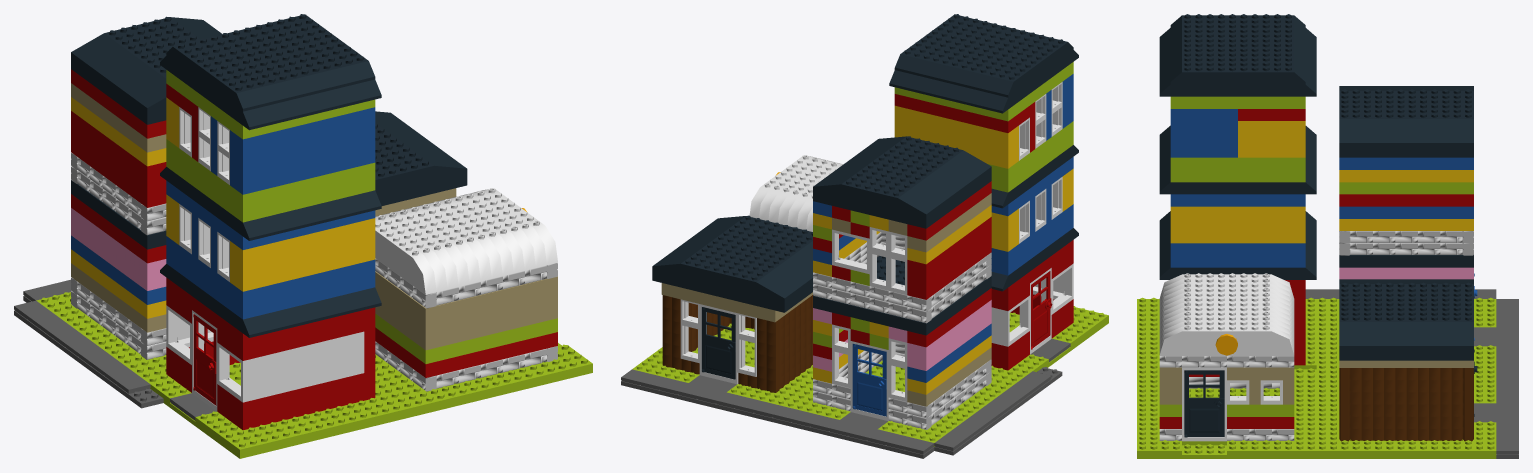
The model's file is Block3-lod2.fbx.
3 renders of one model, left to right at view 1: azimuth 30°, elevation 25°; view 2: azimuth 150°, elevation 25°; view 3: azimuth 270°, elevation 25°, orthographic. The views are drawn at different scales.
Parts seen in each view (by area): view 1: Material_26, Material_119, Material_1, Material_21, Material_23, Material_5, Material_208, Material_24, Material_199, Material_222; view 2: Material_26, Material_1, Material_21, Material_119, Material_199, Material_24, Material_208, Material_23, Material_192, Material_5, Material_222; view 3: Material_26, Material_119, Material_23, Material_1, Material_24, Material_192, Material_208, Material_199, Material_21, Material_5, Material_222, Material_191.
Part boxes in pixels (left/top/right/bottom): Material_26: left=71, top=14, right=467, bottom=337; Material_119: left=36, top=70, right=592, bottom=458; Material_1: left=166, top=107, right=557, bottom=411; Material_21: left=71, top=69, right=557, bottom=430; Material_23: left=71, top=107, right=375, bottom=319; Material_5: left=71, top=83, right=557, bottom=350; Material_208: left=71, top=152, right=557, bottom=391; Material_24: left=71, top=97, right=375, bottom=318; Material_199: left=14, top=279, right=216, bottom=420; Material_222: left=71, top=208, right=166, bottom=290; Material_26: left=652, top=14, right=1078, bottom=379; Material_1: left=680, top=82, right=1073, bottom=421; Material_21: left=813, top=94, right=1073, bottom=370; Material_119: left=632, top=62, right=1108, bottom=446; Material_199: left=621, top=339, right=1070, bottom=458; Material_24: left=813, top=105, right=1073, bottom=394; Material_208: left=813, top=232, right=991, bottom=429; Material_23: left=813, top=74, right=1073, bottom=416; Material_192: left=662, top=295, right=813, bottom=392; Material_5: left=661, top=193, right=991, bottom=406; Material_222: left=813, top=300, right=991, bottom=371; Material_26: left=1159, top=14, right=1477, bottom=437; Material_119: left=1137, top=96, right=1496, bottom=458; Material_23: left=1170, top=109, right=1477, bottom=340; Material_1: left=1159, top=273, right=1294, bottom=441; Material_24: left=1170, top=121, right=1473, bottom=243; Material_192: left=1339, top=368, right=1473, bottom=441; Material_208: left=1159, top=231, right=1473, bottom=440; Material_199: left=1305, top=289, right=1518, bottom=458; Material_21: left=1159, top=109, right=1473, bottom=428; Material_5: left=1159, top=360, right=1473, bottom=404; Material_222: left=1339, top=267, right=1473, bottom=279; Material_191: left=1215, top=334, right=1237, bottom=355.
Size of the model in its own units: 27.2 by 23.86 by 27.2.
